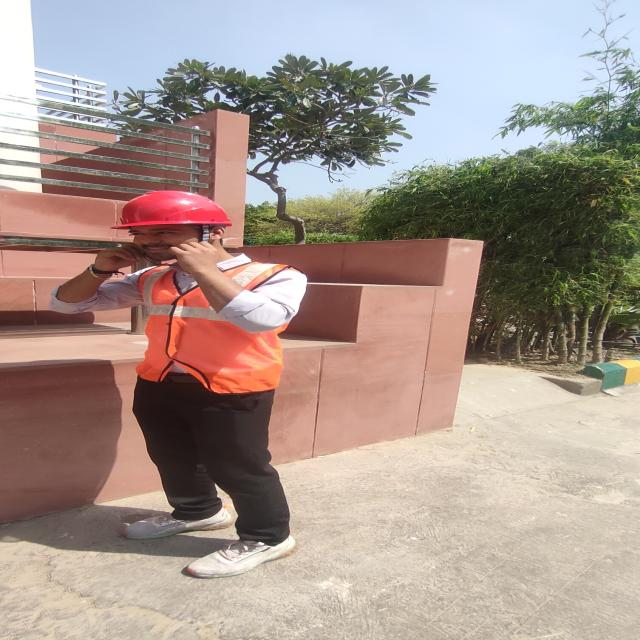safe: (51, 190, 306, 576)
